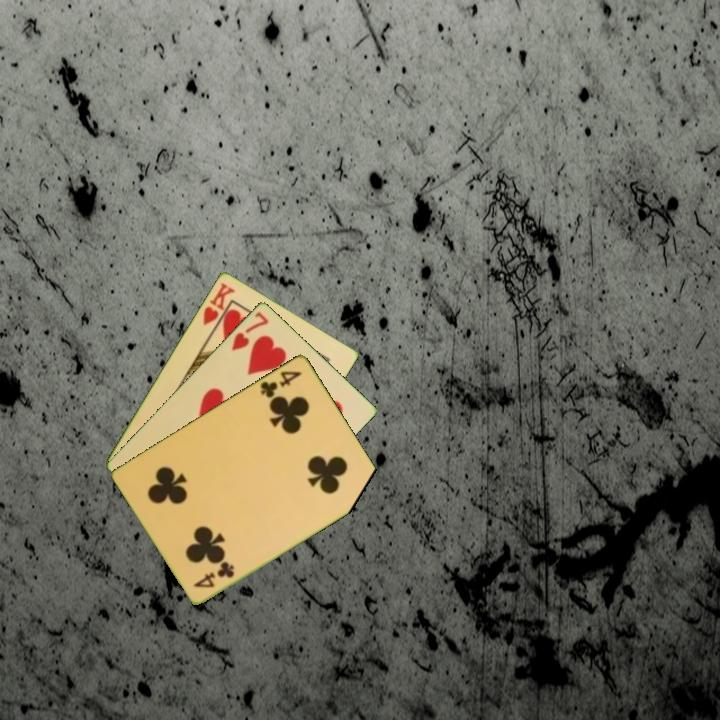4c: (257, 367, 305, 401), (190, 558, 238, 591)
7h: (228, 308, 272, 353)
Kh: (199, 279, 238, 334)
